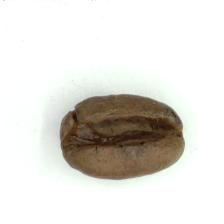NG: (70, 114, 175, 155)
